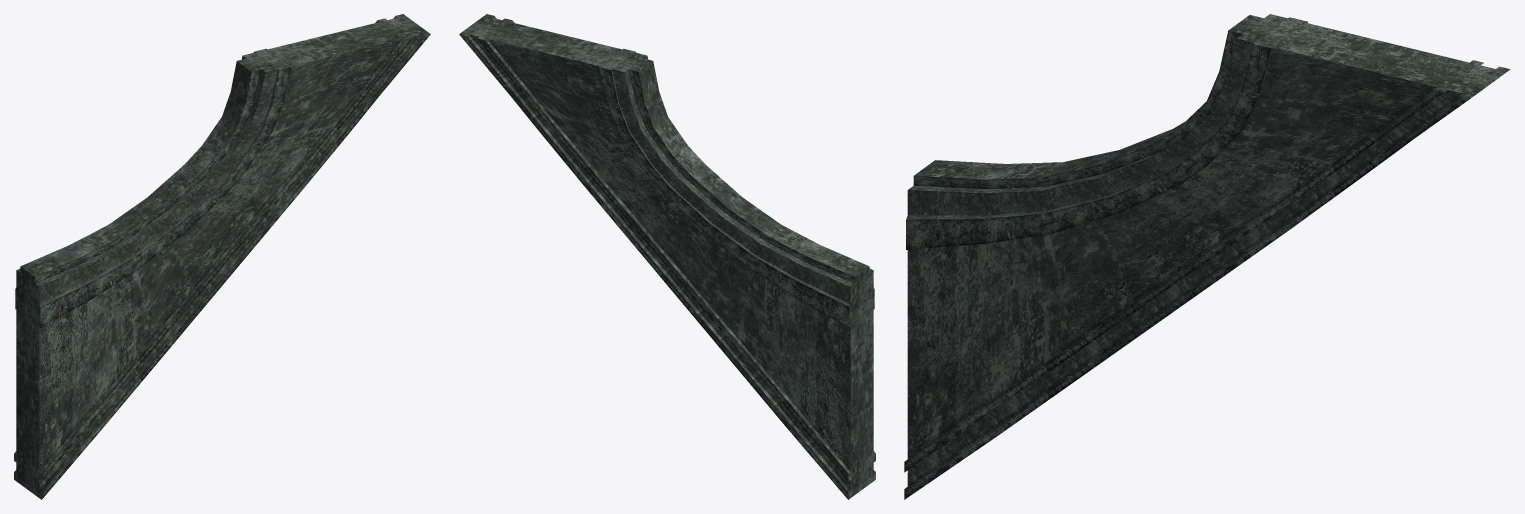
The model's file is mg_9_pillar_7.fbx.
3 renders of one model, left to right at view 1: azimuth 30°, elevation 25°; view 2: azimuth 150°, elevation 25°; view 3: azimuth 330°, elevation 25°, orthographic. The views are drawn at different scales.
Visible parts, largest first — view 1: mg_9_pillar_7; view 2: mg_9_pillar_7; view 3: mg_9_pillar_7.
Boxes of the visible parts, x1,y1,x2,y2 form: mg_9_pillar_7: (14,14,430,499); mg_9_pillar_7: (459,14,875,499); mg_9_pillar_7: (904,14,1509,499).
Size of the model in its own units: 1723 by 1568 by 212.
